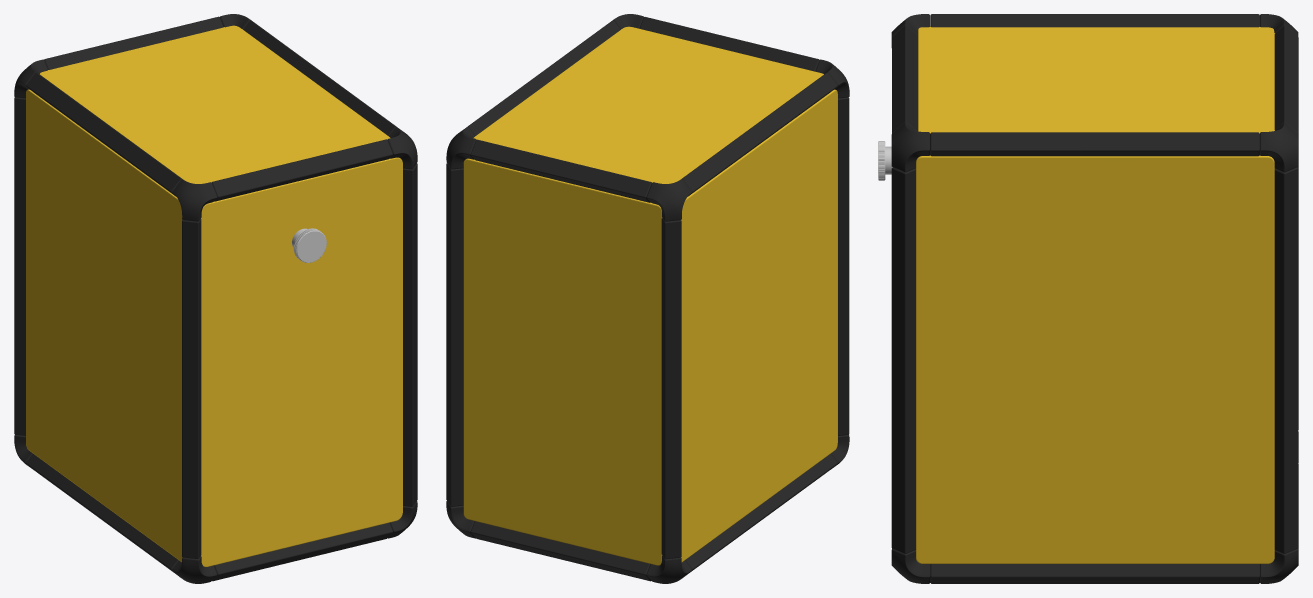
The picture shows the model from 3 angles, left to right: view 1: azimuth 30°, elevation 25°; view 2: azimuth 150°, elevation 25°; view 3: azimuth 270°, elevation 25°; orthographic projection. The views are drawn at different scales.
Visible parts, largest first — view 1: 229x329x420; view 2: 229x329x420; view 3: 229x329x420.
Boxes of the visible parts, bbox=[...] form: 229x329x420: bbox=[14, 14, 417, 583]; 229x329x420: bbox=[446, 14, 849, 583]; 229x329x420: bbox=[878, 14, 1298, 583].
Size of the model in its own units: 0.3067 by 0.4976 by 0.4196.
